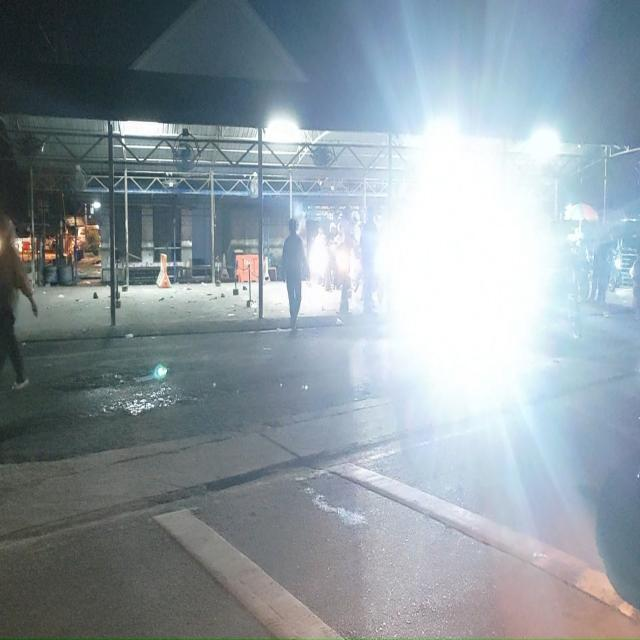Golongan II: (608, 250, 622, 292)
